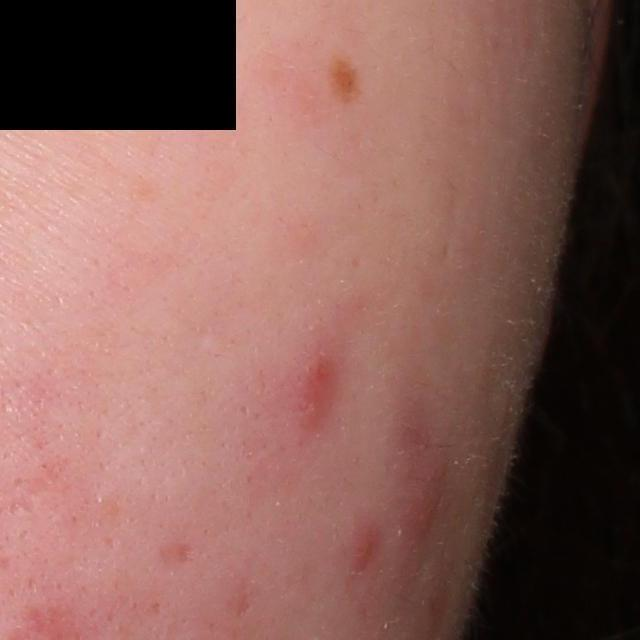atrophic_scar: (161, 540, 198, 568), (232, 586, 256, 620)
melasma: (325, 51, 369, 112)
papule: (397, 487, 444, 545), (305, 353, 339, 402), (350, 534, 377, 570)
